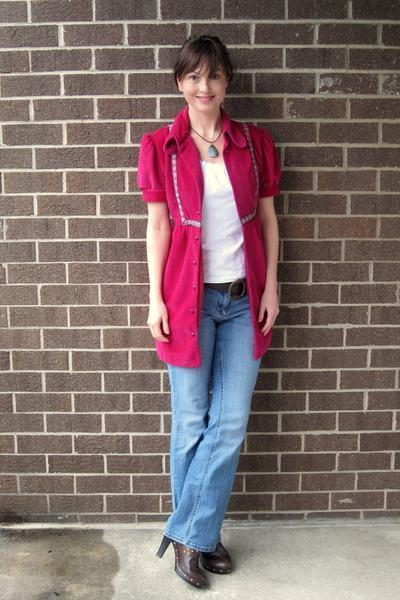jacket: (134, 108, 297, 371)
trousers: (162, 272, 281, 552)
vest: (184, 155, 248, 291)
